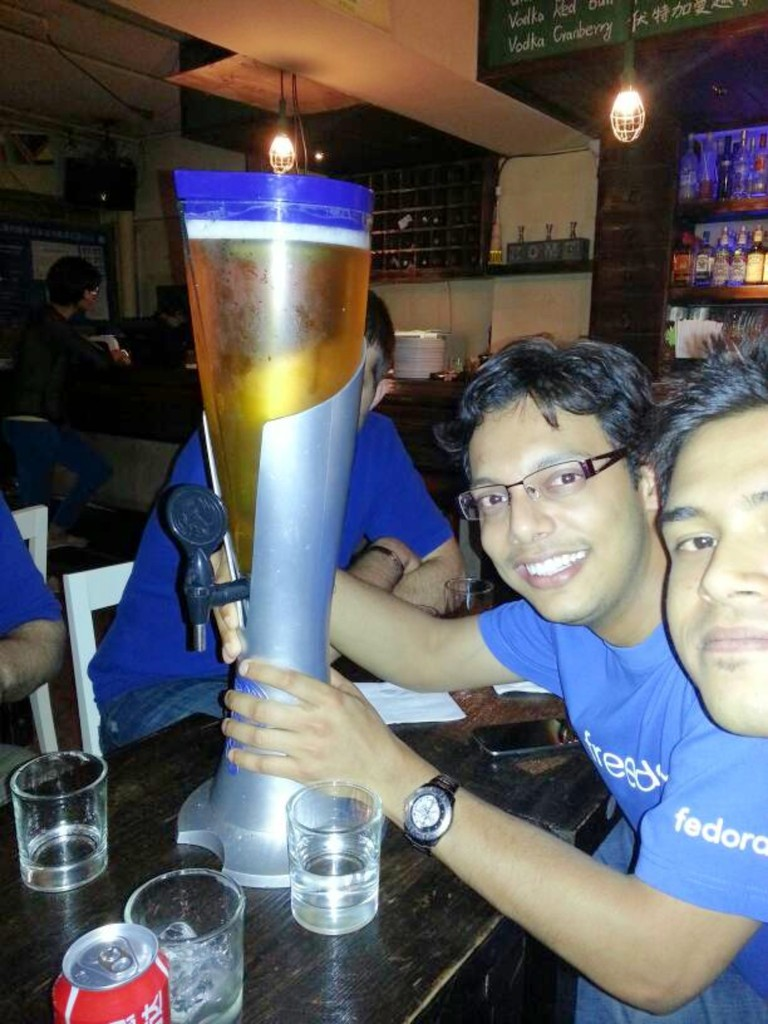Beer: (185, 221, 374, 571)
